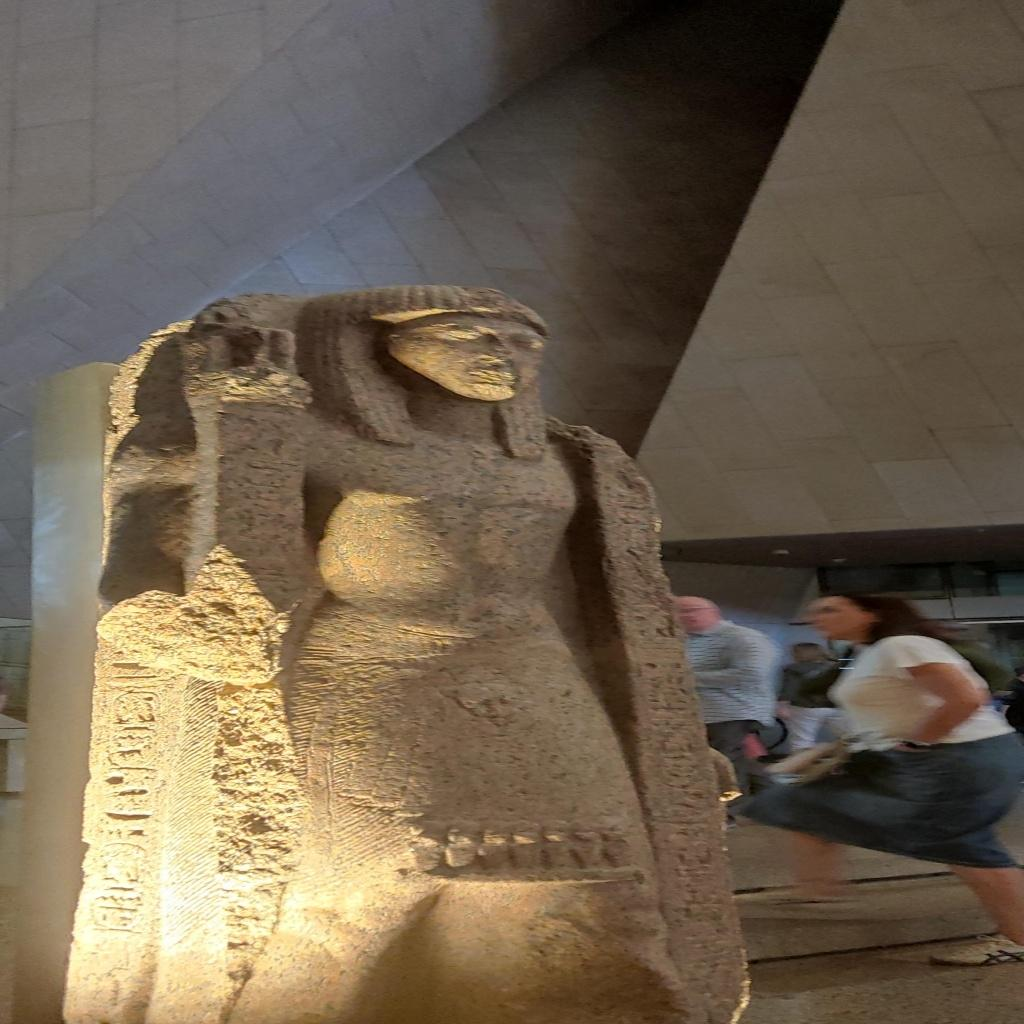Statue of Merenptah as standard Bearer: (59, 282, 684, 1020)
